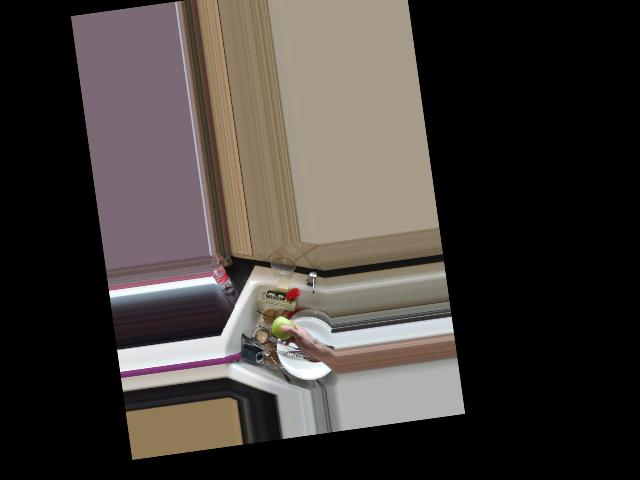apple: (269, 314, 298, 343)
